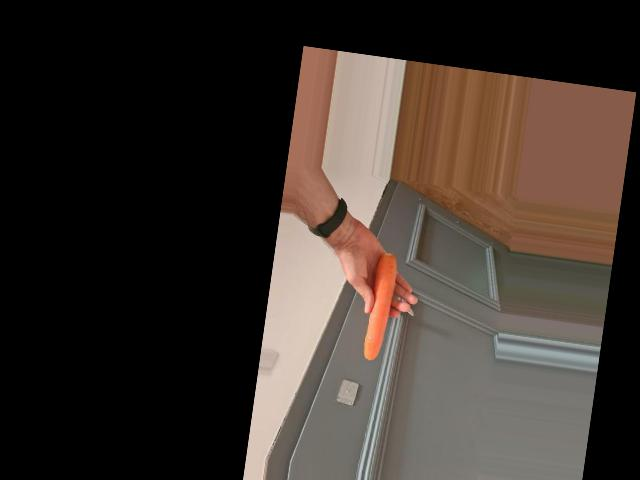carrot: (358, 251, 399, 360)
